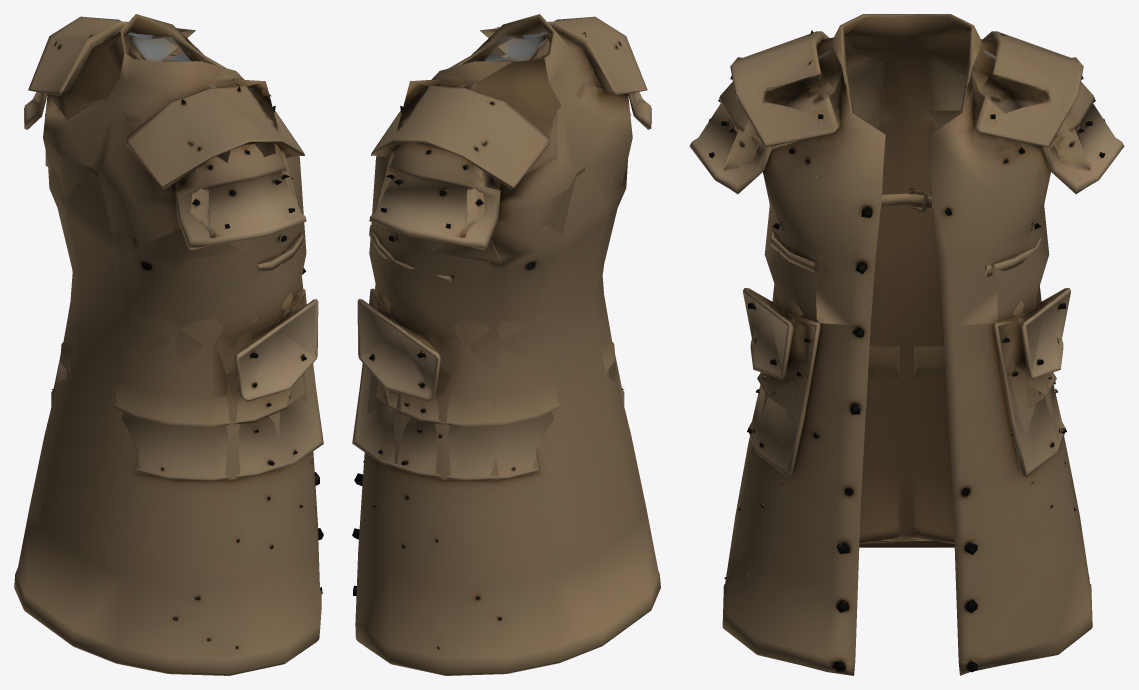
The model's file is wolfpelt_coat.glb.
The picture shows the model from 3 angles, left to right: view 1: azimuth 30°, elevation 25°; view 2: azimuth 150°, elevation 25°; view 3: azimuth 270°, elevation 25°; orthographic projection. The views are drawn at different scales.
Visible parts, largest first — view 1: base_model_path; view 2: base_model_path; view 3: base_model_path.
Boxes of the visible parts, x1,y1,x2,y2 form: base_model_path: (14,14,323,675); base_model_path: (352,14,660,675); base_model_path: (689,14,1124,675).
Bounding box in the file's own units: 0.4471 × 0.9977 × 0.6658.
Materials: 1 (1 with a texture image).
